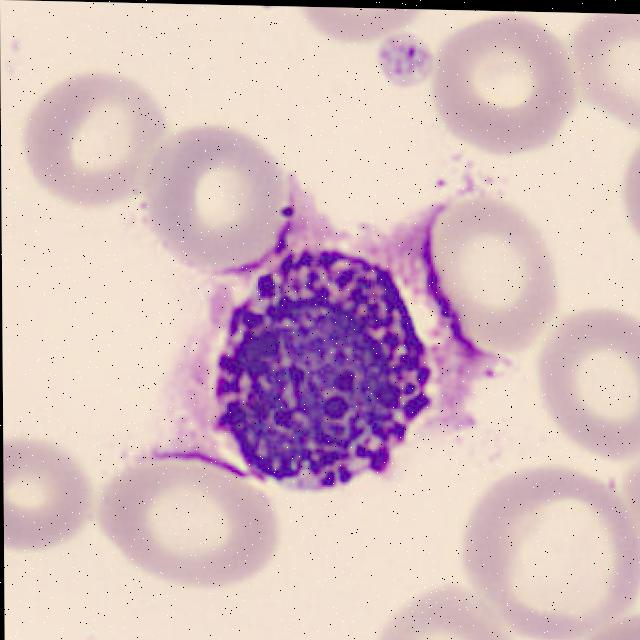basophil: (210, 229, 430, 493)
platelets: (375, 28, 431, 92)
rbc: (456, 475, 628, 627), (418, 187, 564, 365), (134, 125, 311, 267), (16, 61, 165, 208), (107, 459, 268, 588), (427, 13, 570, 152), (541, 317, 640, 455), (3, 433, 95, 573), (341, 575, 515, 640), (572, 13, 640, 133), (292, 7, 422, 41), (561, 595, 640, 640), (615, 442, 640, 563), (620, 129, 640, 258)
